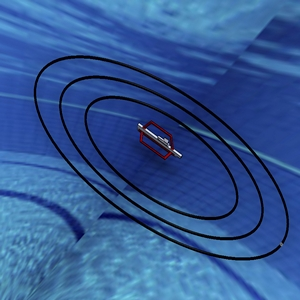circle: (24, 48, 294, 267)
submarine: (130, 113, 184, 171)
